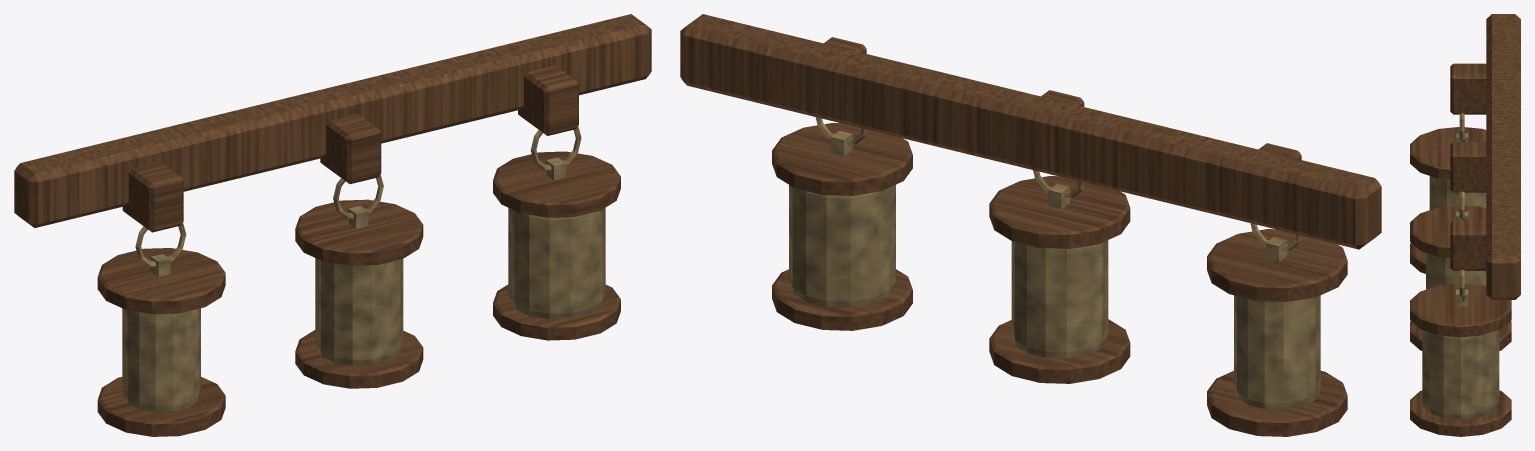
The model's file is HangingMandrels_LOD0.fbx.
3 renders of one model, left to right at view 1: azimuth 30°, elevation 25°; view 2: azimuth 150°, elevation 25°; view 3: azimuth 270°, elevation 25°, orthographic. The views are drawn at different scales.
Visible parts, largest first — view 1: HangingMandrels; view 2: HangingMandrels; view 3: HangingMandrels.
Boxes of the visible parts, x1,y1,x2,y2 form: HangingMandrels: (14, 14, 651, 436); HangingMandrels: (680, 14, 1381, 436); HangingMandrels: (1410, 14, 1520, 436).
Bounding box in the file's own units: 0.93 × 0.357 × 0.1764.
1 material, 1 textured.
